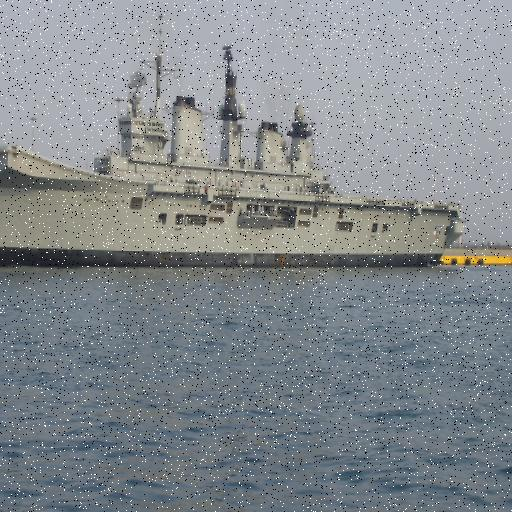Portanaves: (1, 11, 478, 272)
